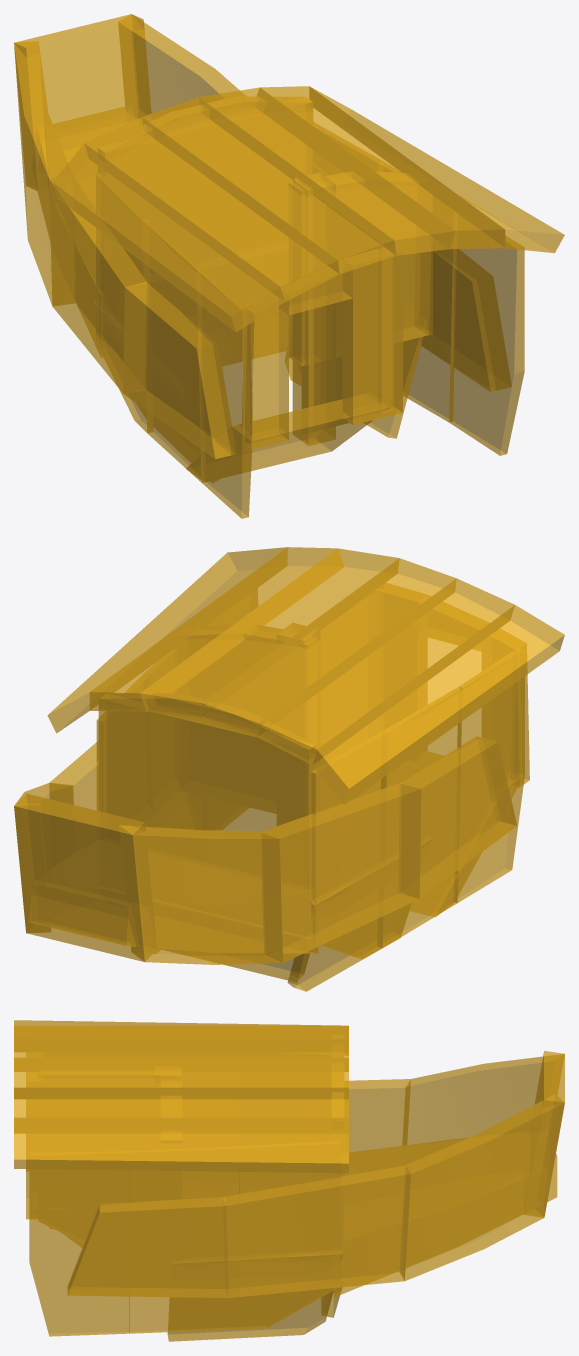
The model's file is SM_Veh_Ship_S_Back_02_Collision.fbx.
3 views of the same model, one above another, from view 1: azimuth 30°, elevation 25°; view 2: azimuth 150°, elevation 25°; view 3: azimuth 270°, elevation 25° (orthographic). The views are drawn at different scales.
Visible parts, largest first — view 1: SM_Veh_Ship_S_Back_02_Collision; view 2: SM_Veh_Ship_S_Back_02_Collision; view 3: SM_Veh_Ship_S_Back_02_Collision.
Boxes of the visible parts, x1,y1,x2,y2 form: SM_Veh_Ship_S_Back_02_Collision: (14,14,564,518); SM_Veh_Ship_S_Back_02_Collision: (14,547,564,991); SM_Veh_Ship_S_Back_02_Collision: (14,1020,564,1341).
Size of the model in its own units: 602 by 495 by 1007.
